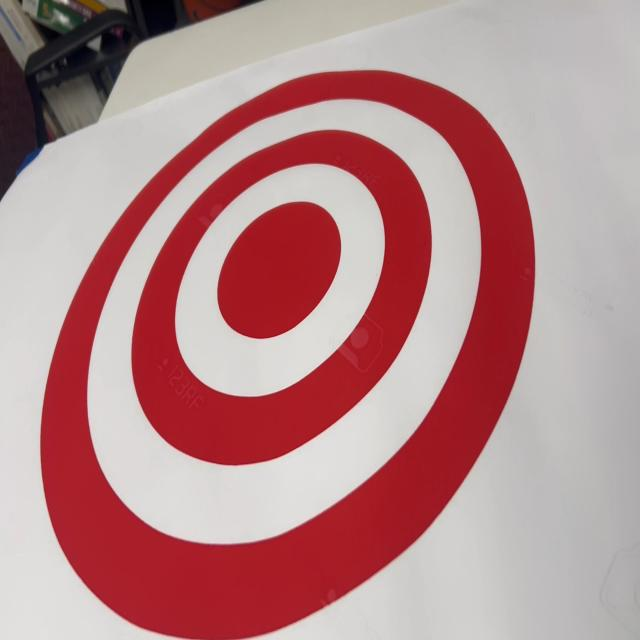target_red: (30, 54, 540, 640)
